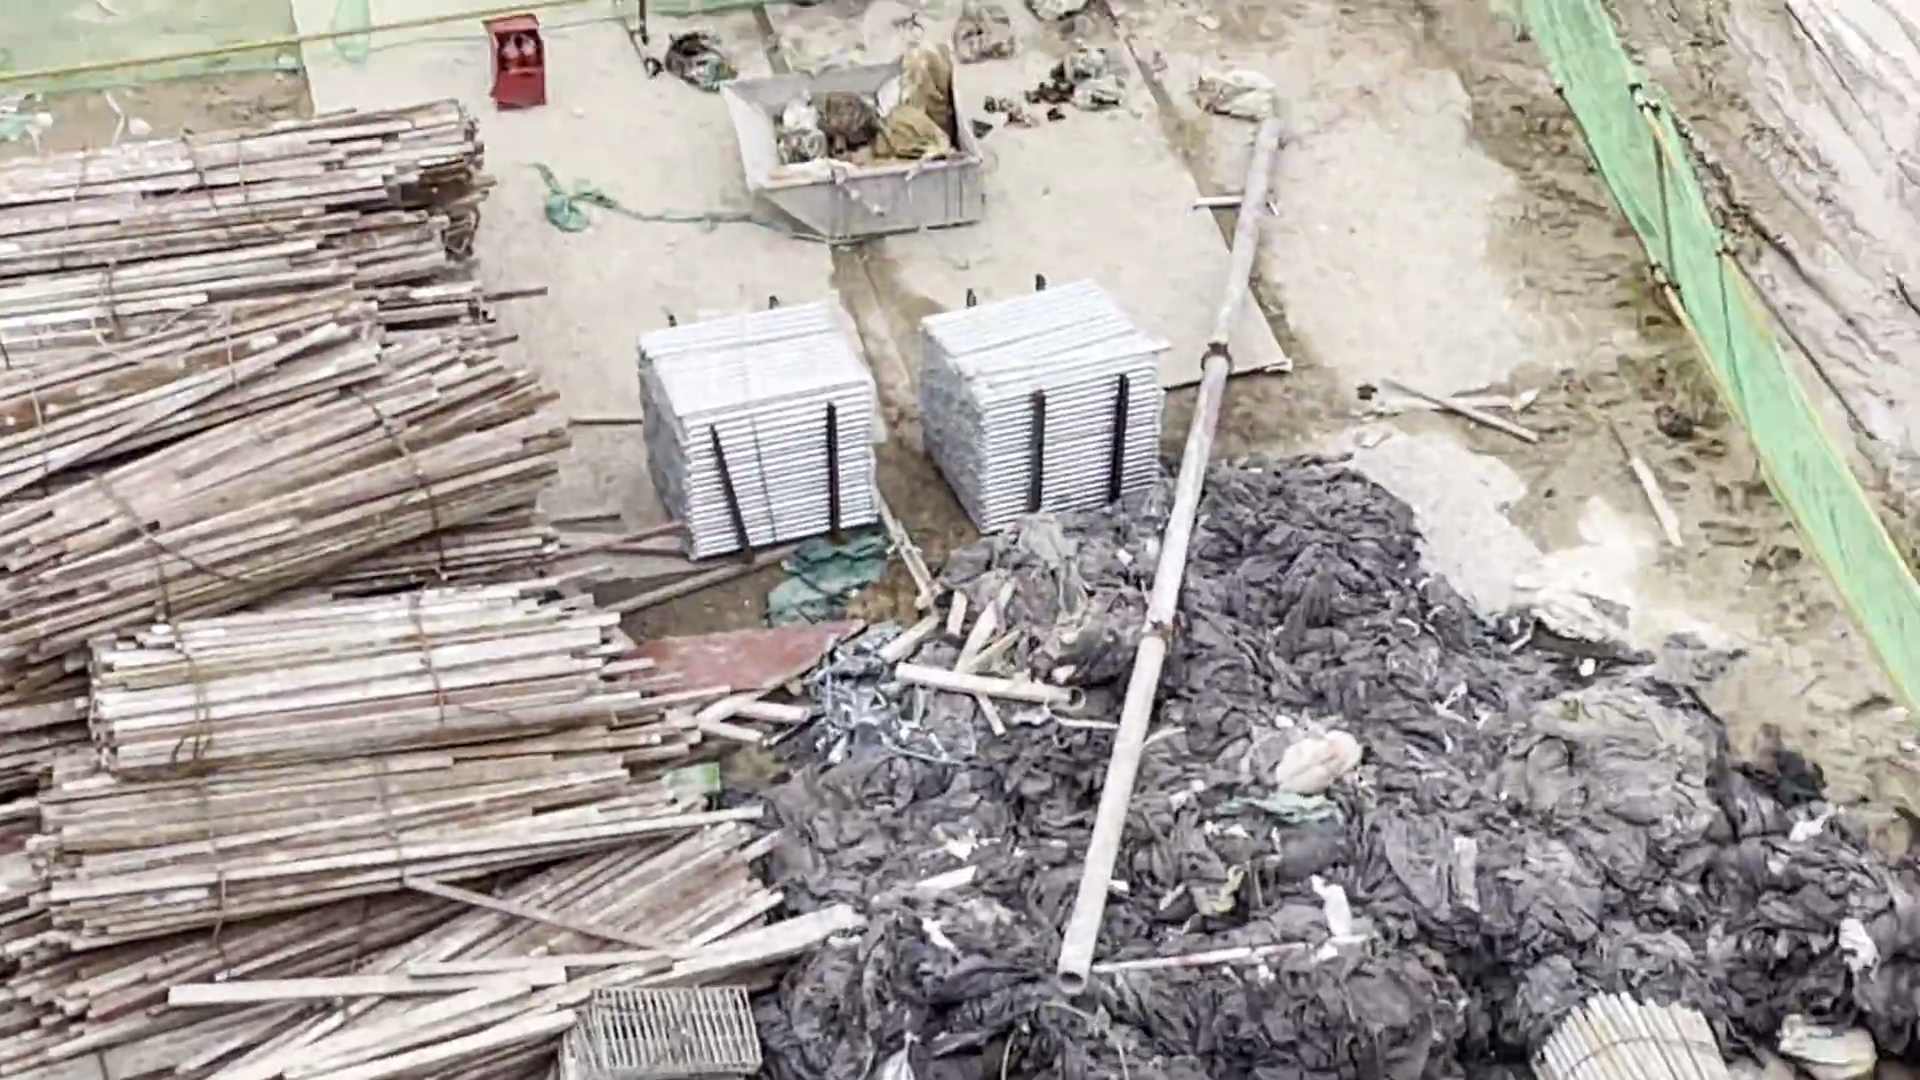hopper: (717, 55, 1006, 251)
scaffold: (638, 293, 894, 578), (911, 287, 1163, 524)
wood: (3, 124, 644, 1080)
